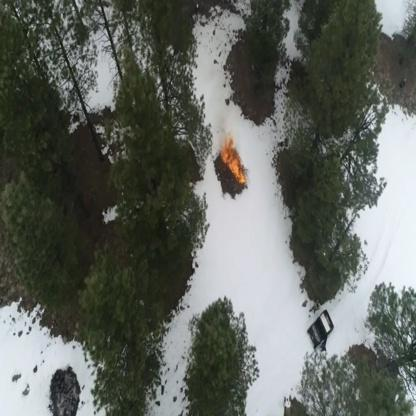Fire: (219, 132, 247, 186)
